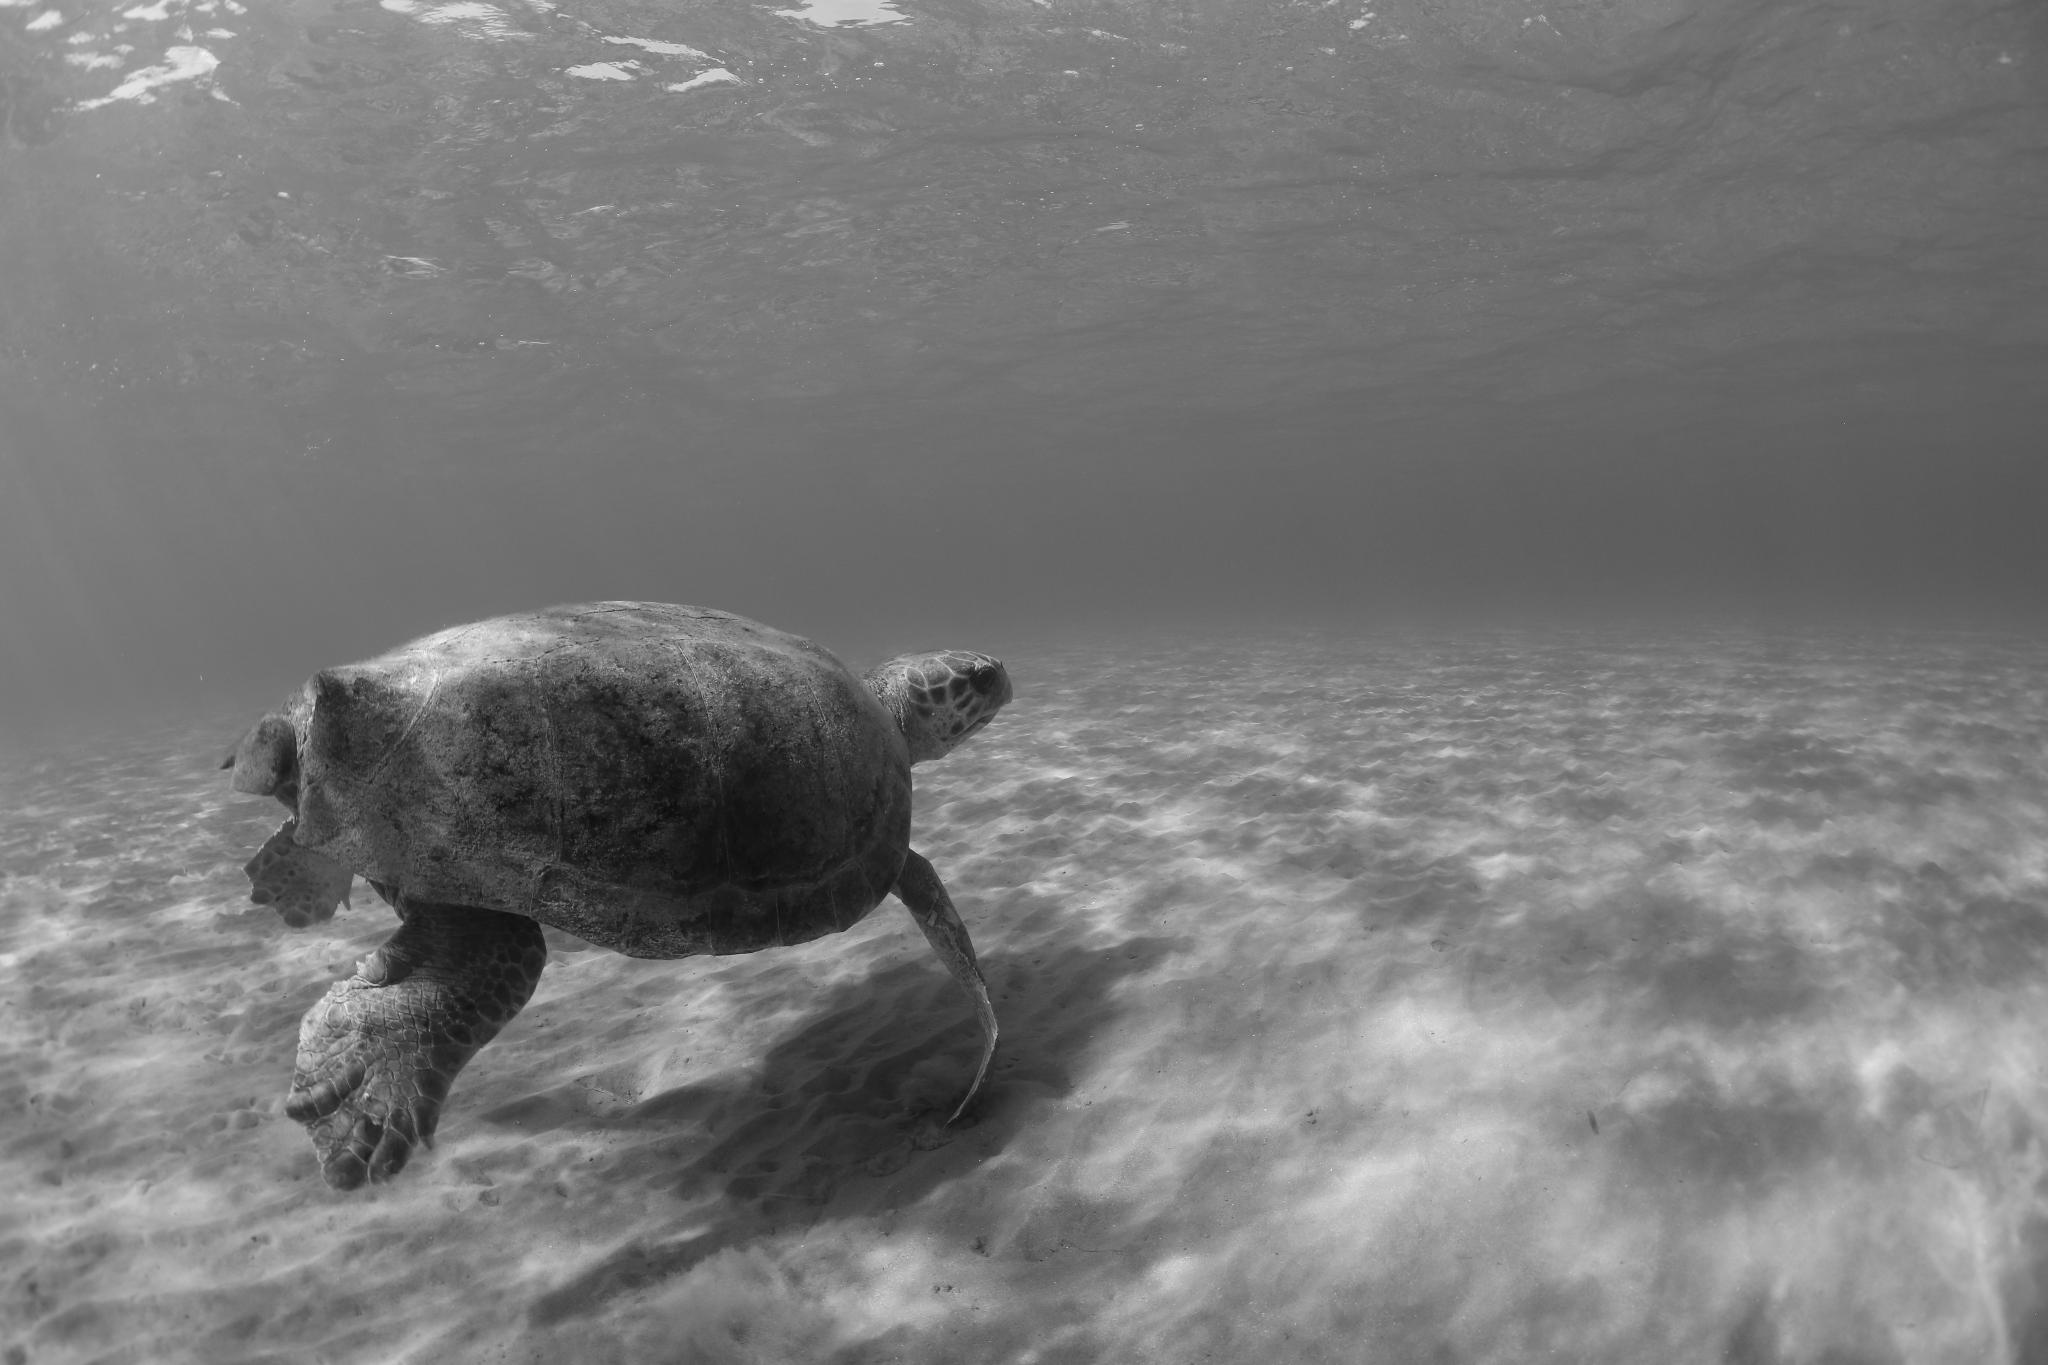Head: (860, 650, 1012, 764)
